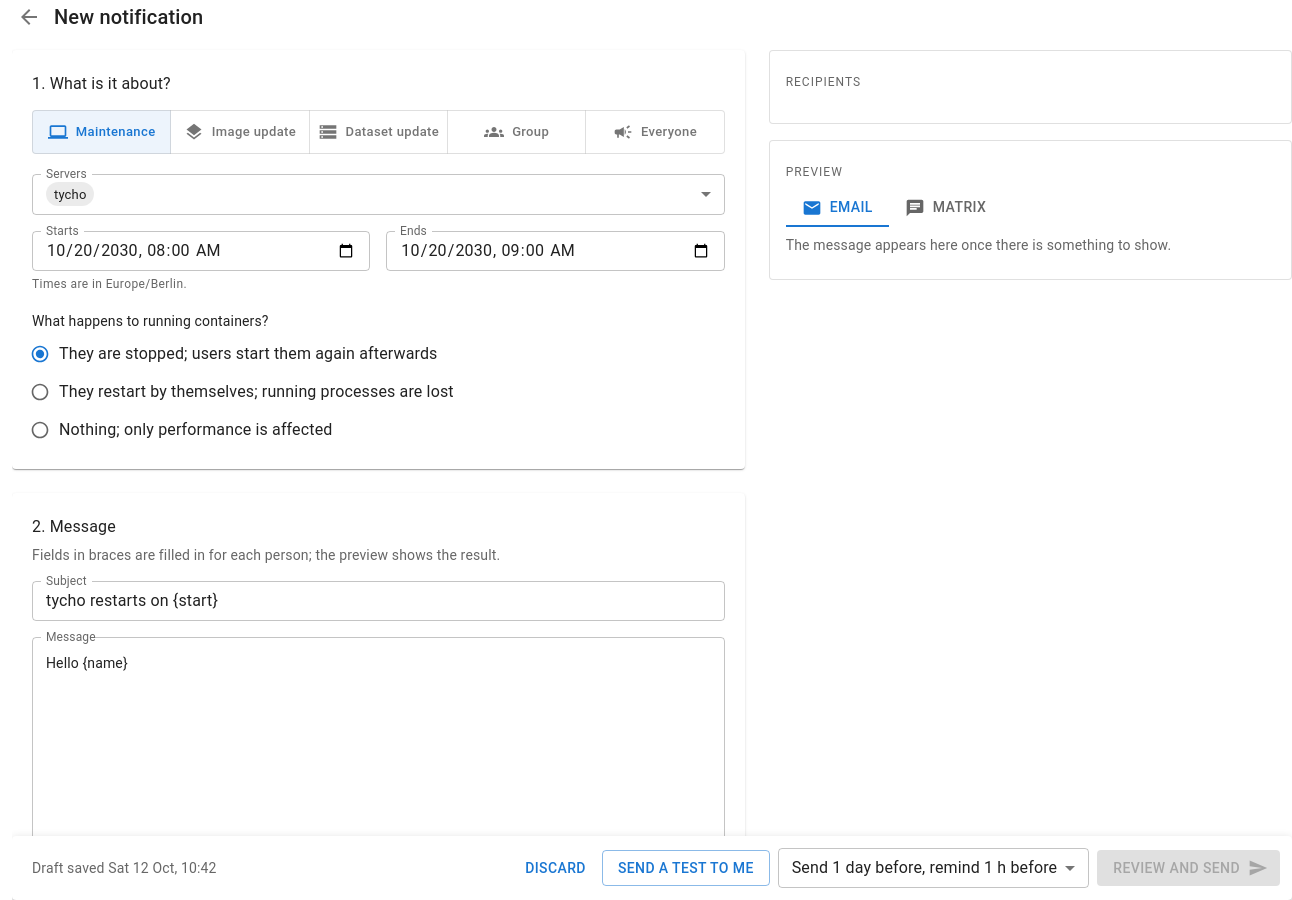
Test: the test goes to the admin and says as whom it was written
Expected: the heading "1. What is it about?" is shown, top-left (32, 74), bottom-right (171, 93)
Click the button with test id "composer-test" at [686, 868], box top-left (602, 850), bottom-right (770, 886)
(page scrolled)
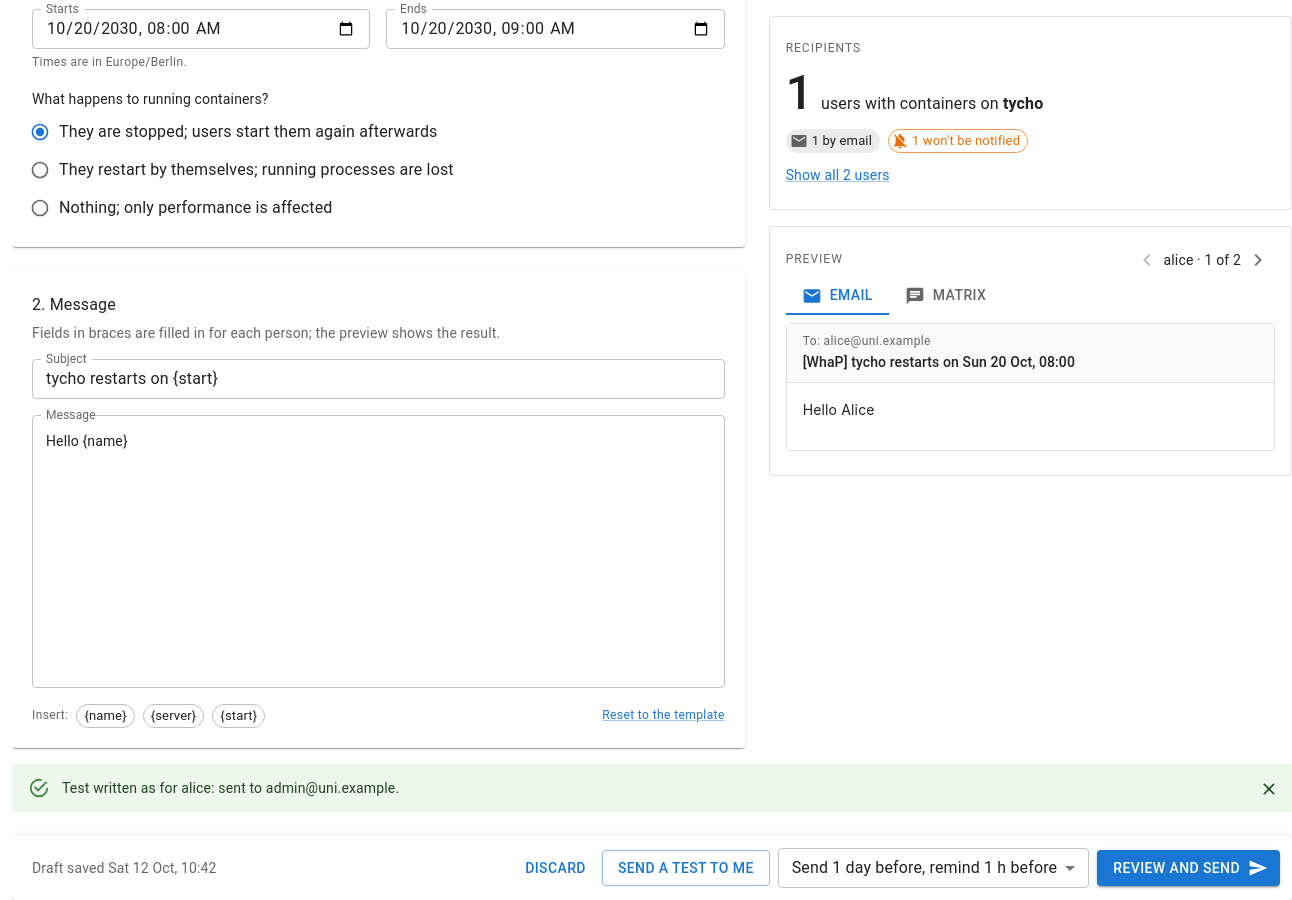
Expected: the message with test id "composer-test-result" reads "Test written as for alice: sent to admin@uni.example.", top-left (12, 764), bottom-right (1291, 812)
